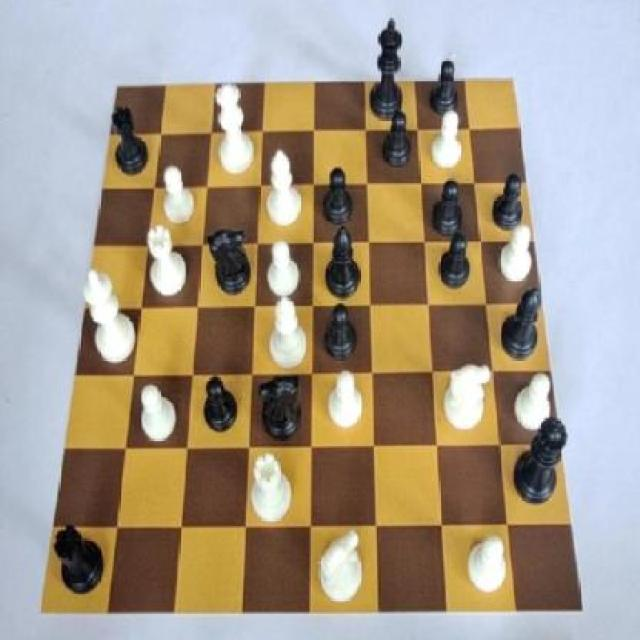bishop: (500, 278, 545, 364), (321, 220, 364, 303)
black-bishop: (369, 17, 409, 124)
black-king: (251, 366, 307, 446), (205, 225, 256, 296)
black-knight: (436, 220, 476, 292), (316, 166, 360, 227), (198, 371, 238, 436), (490, 171, 528, 237), (377, 109, 415, 174), (429, 169, 464, 239), (320, 304, 358, 364), (426, 54, 461, 118)
black-pawn: (514, 406, 571, 509)
black-queen: (48, 520, 108, 600), (106, 106, 154, 182)
black-rook: (266, 296, 311, 372), (264, 151, 306, 230)
white-bishop: (76, 264, 140, 370)
white-king: (317, 528, 368, 608), (440, 360, 491, 434)
white-knight: (466, 528, 517, 595), (134, 377, 179, 451), (157, 159, 198, 236), (322, 369, 371, 432), (497, 217, 539, 289), (511, 368, 555, 433), (430, 111, 472, 175), (265, 238, 306, 298)
white-pawn: (212, 86, 258, 187)
white-queen: (145, 223, 192, 309), (245, 452, 292, 521)
